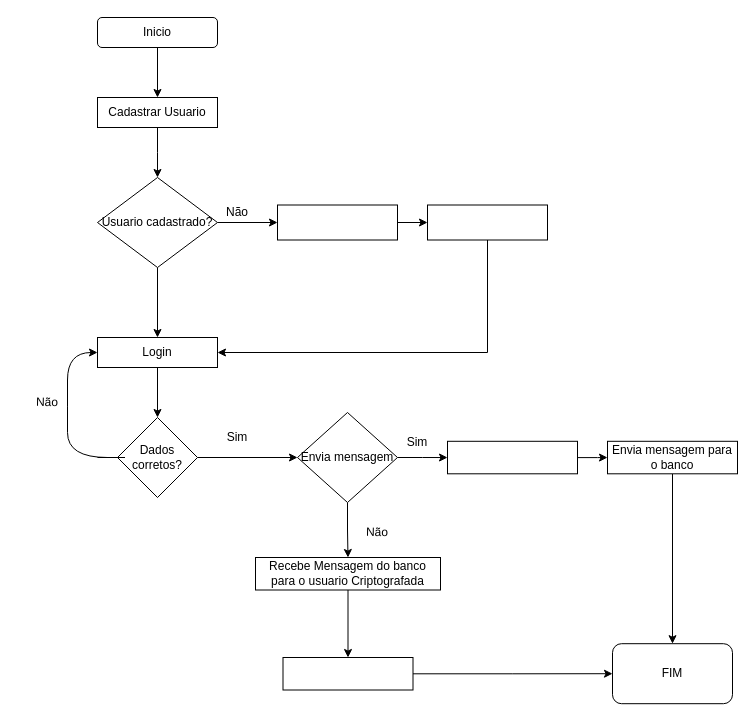
This 755x722 diagram has some shape labels left out. Here are the shapes that lost their labels. From the top down, the centre of each, then its label:
At point (337, 222): "Criptografa dados".
At point (487, 222): "Insere no banco de dados".
At point (512, 457): "Criptografa mensagem".
At point (347, 673): "Criptografa mensagem com a key do usuario".
